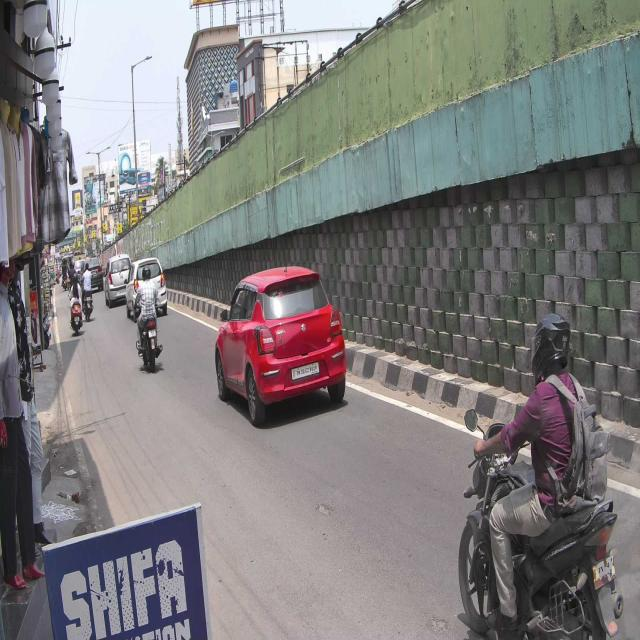single_rider: (460, 313, 627, 640)
